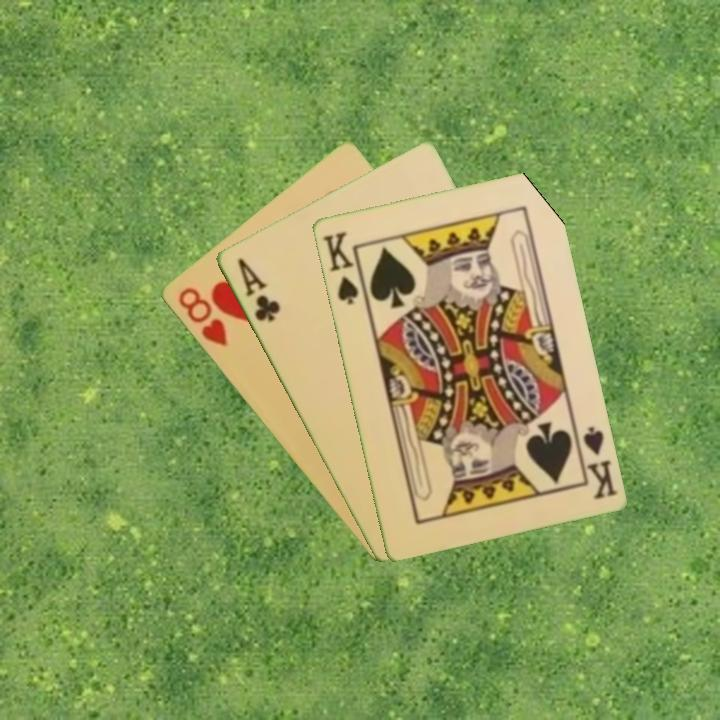8h: (174, 283, 230, 350)
Ac: (233, 254, 283, 325)
Ks: (571, 422, 620, 502), (319, 227, 367, 308)
